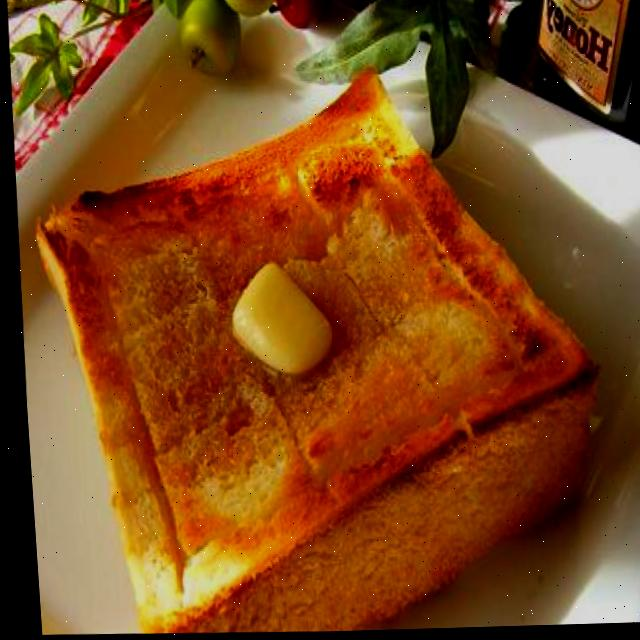面包点心: (12, 63, 619, 640)
